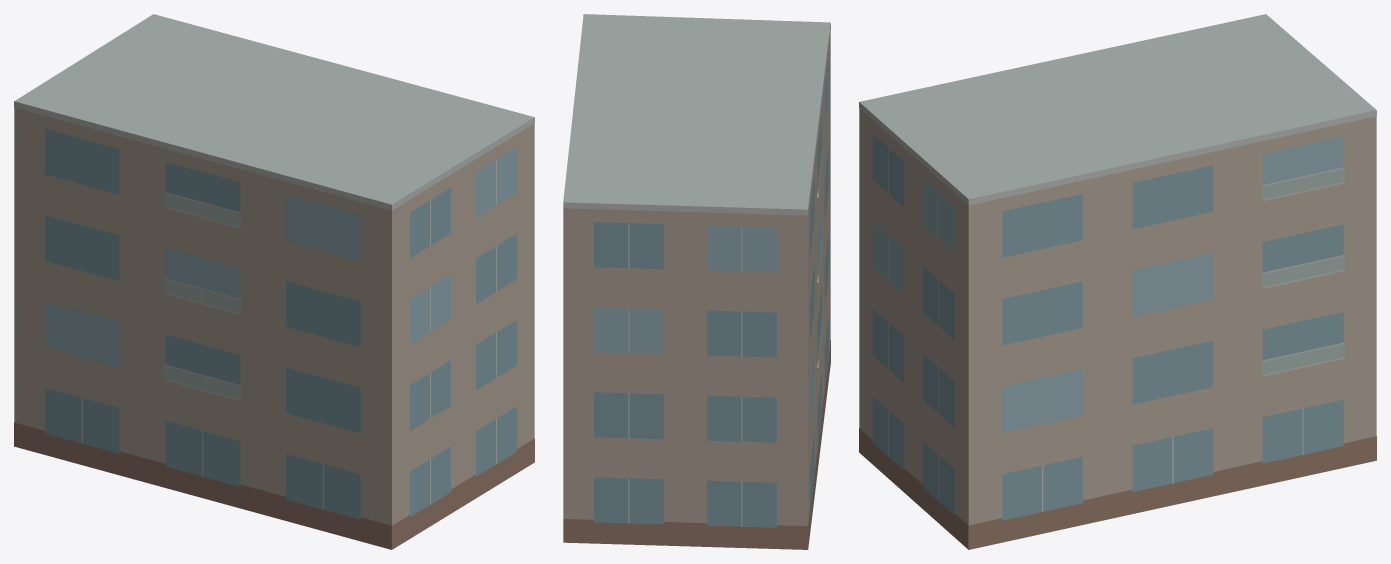
The model's file is survey-upis-33007326.glb.
The picture shows the model from 3 angles, left to right: view 1: azimuth 30°, elevation 25°; view 2: azimuth 150°, elevation 25°; view 3: azimuth 270°, elevation 25°; orthographic projection. The views are drawn at different scales.
Parts seen in each view (by area): view 1: survey-upis-33007326.tmp; view 2: survey-upis-33007326.tmp; view 3: survey-upis-33007326.tmp.
Part boxes in pixels (left/top/right/bottom): survey-upis-33007326.tmp: left=14, top=14, right=534, bottom=549; survey-upis-33007326.tmp: left=563, top=14, right=830, bottom=549; survey-upis-33007326.tmp: left=859, top=14, right=1376, bottom=549.
Bounding box in the file's own units: 15.83 × 13.95 × 18.68.
